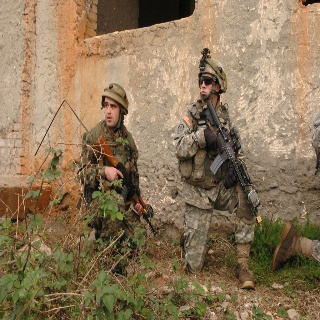rifle: (197, 100, 263, 224), (94, 134, 161, 234)
